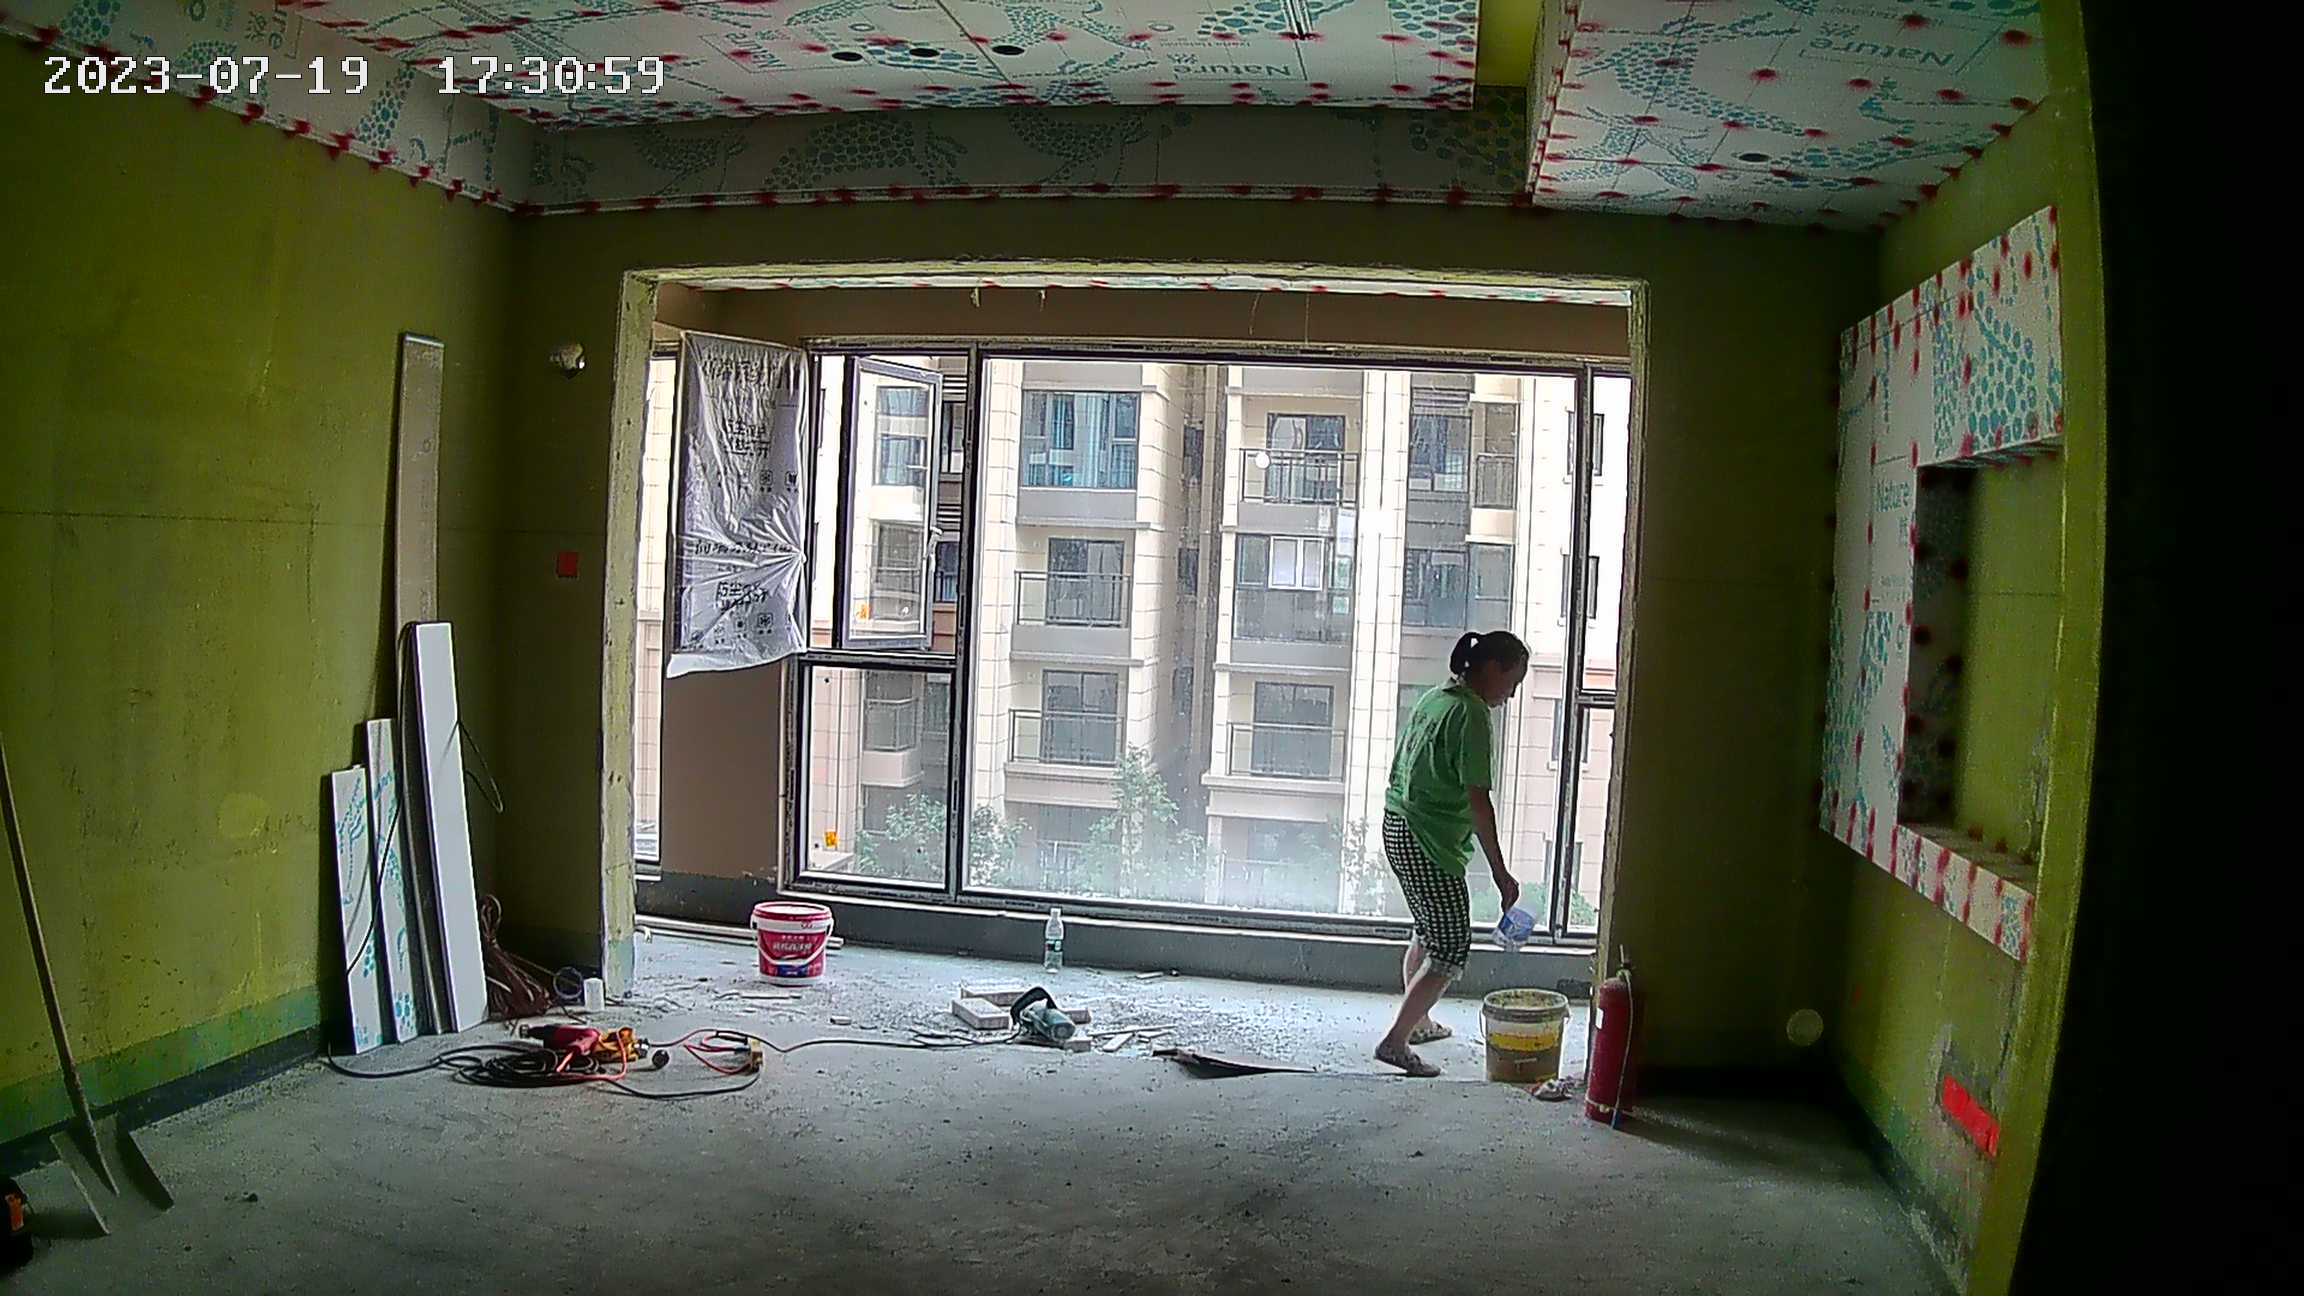people: (1375, 628, 1534, 1082)
window: (800, 346, 1604, 945)
